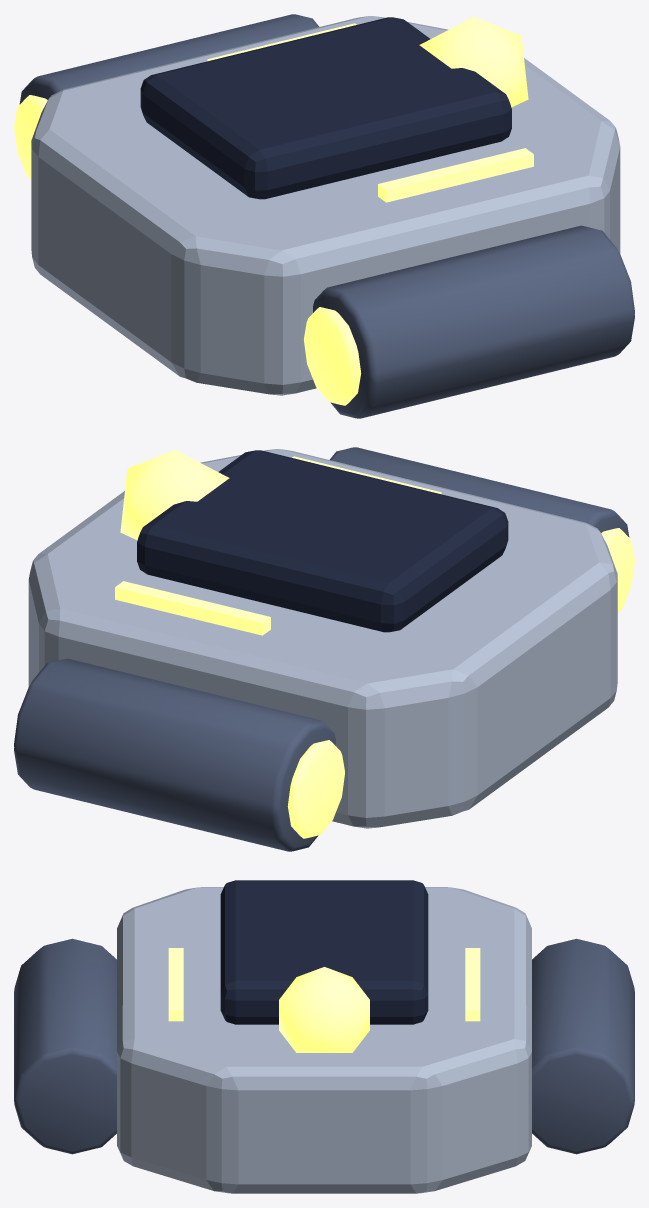
The model's file is enemy_bomber.glb.
The picture shows the model from 3 angles, top to bottom: view 1: azimuth 30°, elevation 25°; view 2: azimuth 150°, elevation 25°; view 3: azimuth 270°, elevation 25°; orthographic projection. The views are drawn at different scales.
Visible parts, largest first — view 1: enemy_bomber; view 2: enemy_bomber; view 3: enemy_bomber.
Boxes of the visible parts, x1,y1,x2,y2 form: enemy_bomber: (14,14,634,418); enemy_bomber: (14,447,634,851); enemy_bomber: (14,880,634,1193).
Bounding box in the file's own units: 1.55 × 0.73 × 2.09.
